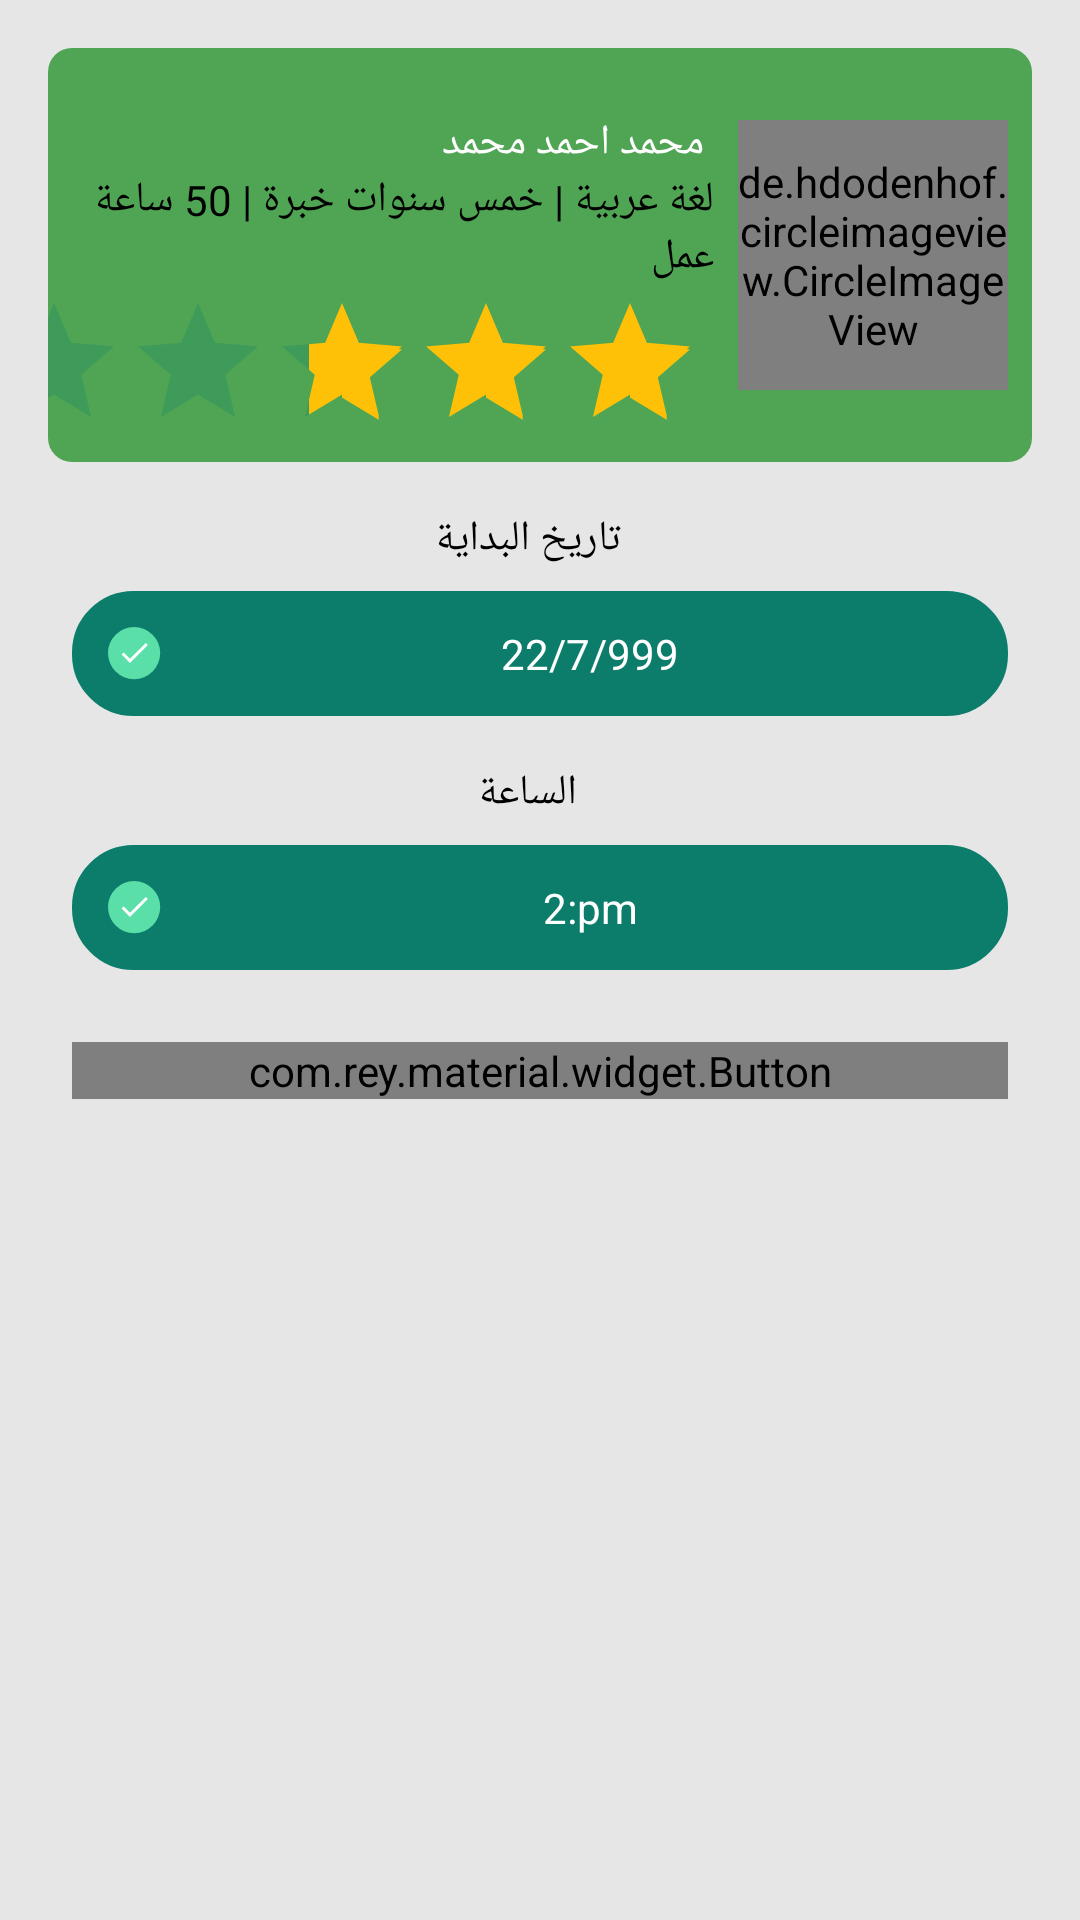

Point at icon controls on the screen. Image size 1080px x 1920px, points as point (x, y).
check true: point (134, 653), point (134, 907)
